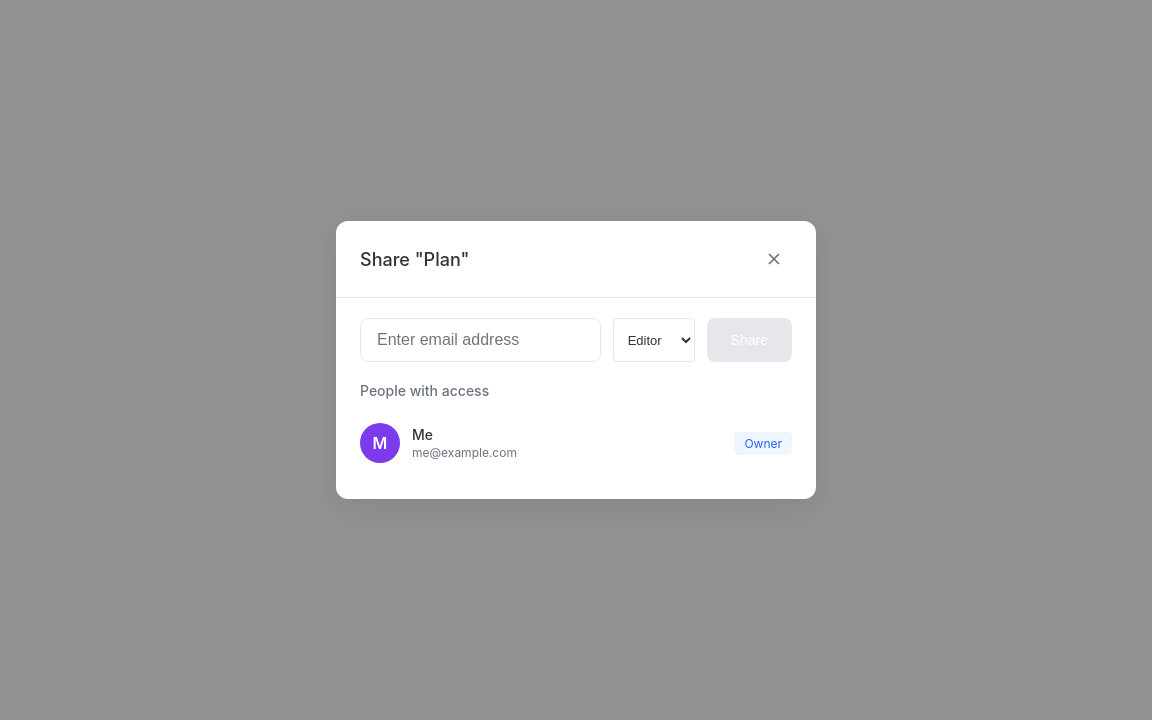
Test: ShareDialog invite note › local mode: the invite is recorded and the note says it cannot be accepted yet
Expected: the heading "People with access" is shown, [360, 382, 489, 399]
In the field with placeholder "Enter email address": (480, 340) [360, 318, 601, 362], type "friend@example.com"
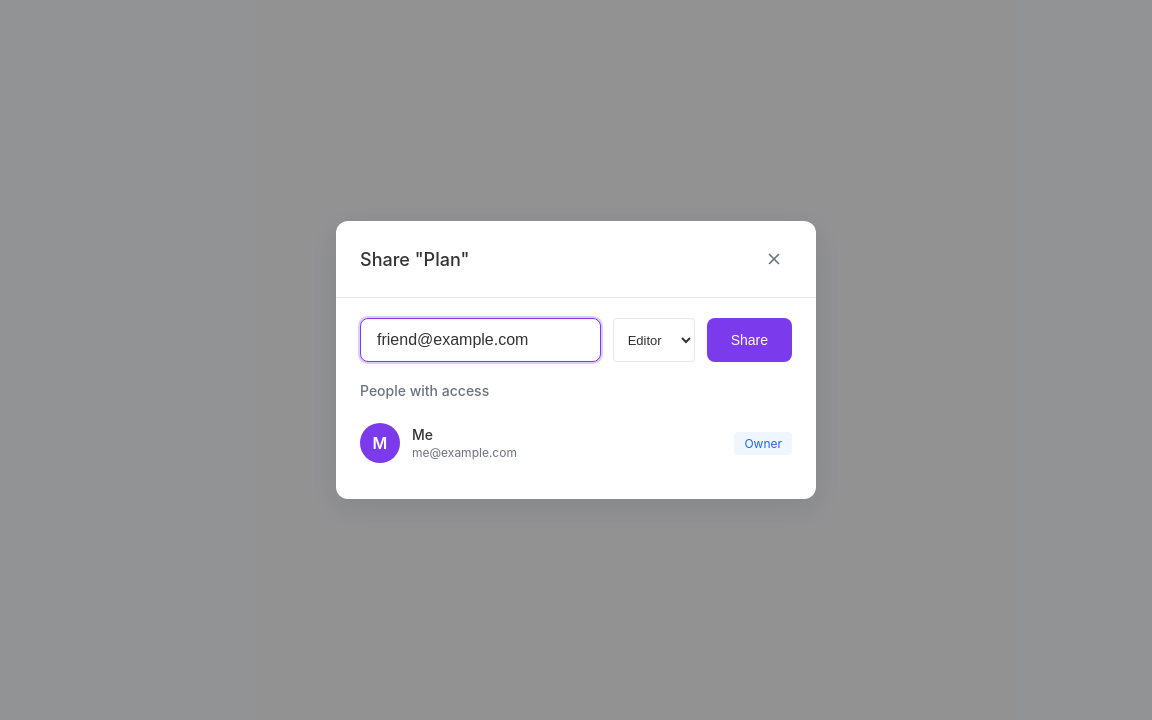
Press Enter
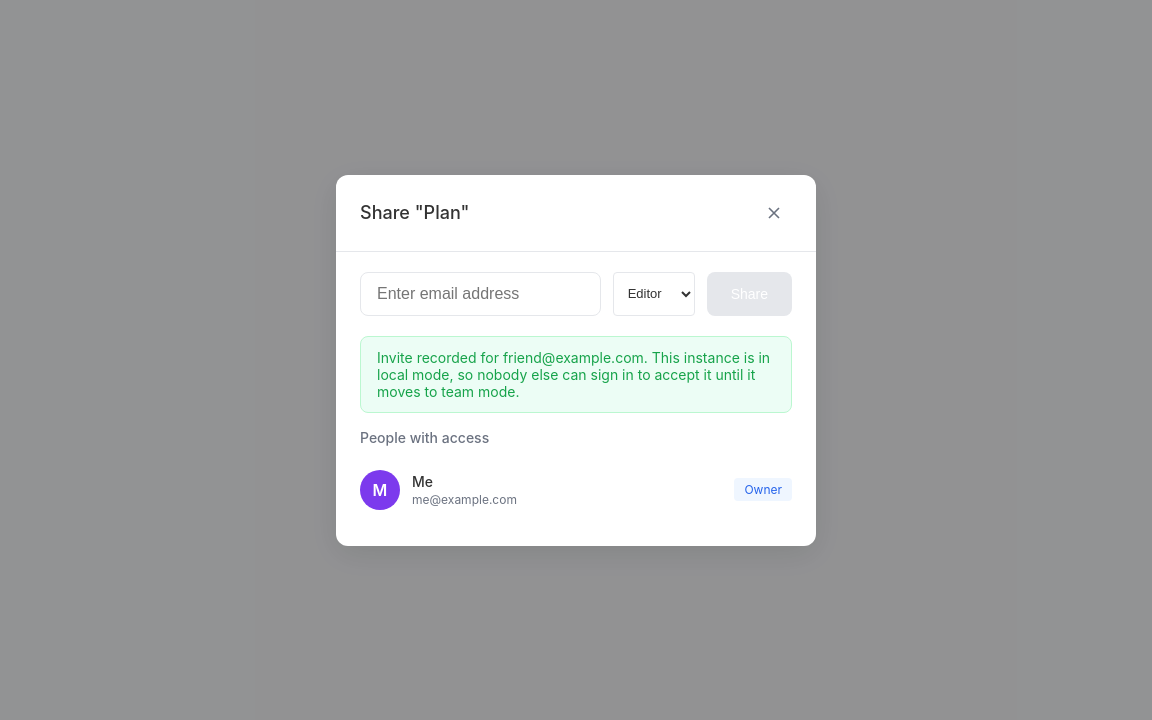
Expected: the text "Invite recorded for friend@example.com. This instance is in local mode, so nobody else can sign in to accept it until it" is shown, [377, 348, 770, 400]
